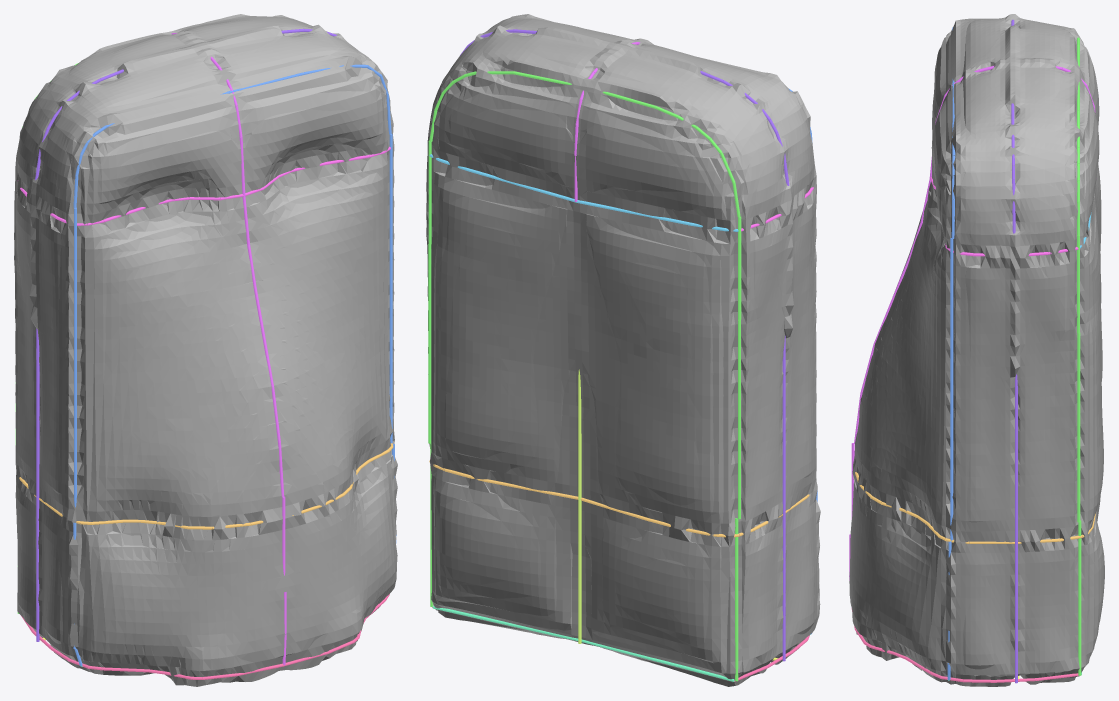
3 renders of one model, left to right at view 1: azimuth 30°, elevation 25°; view 2: azimuth 150°, elevation 25°; view 3: azimuth 270°, elevation 25°, orthographic. The views are drawn at different scales.
Size of the model in its own units: 0.5134 by 0.8196 by 0.3403.
